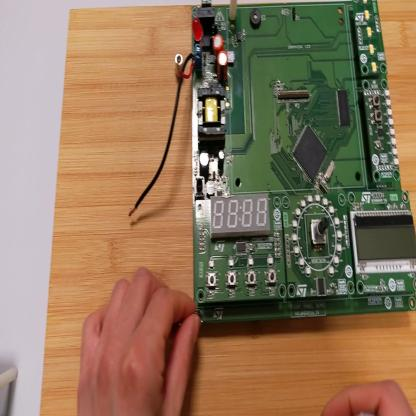hand: (80, 270, 200, 413), (324, 382, 413, 414)
low voltage board: (132, 2, 416, 326)
working area: (43, 2, 416, 416)
